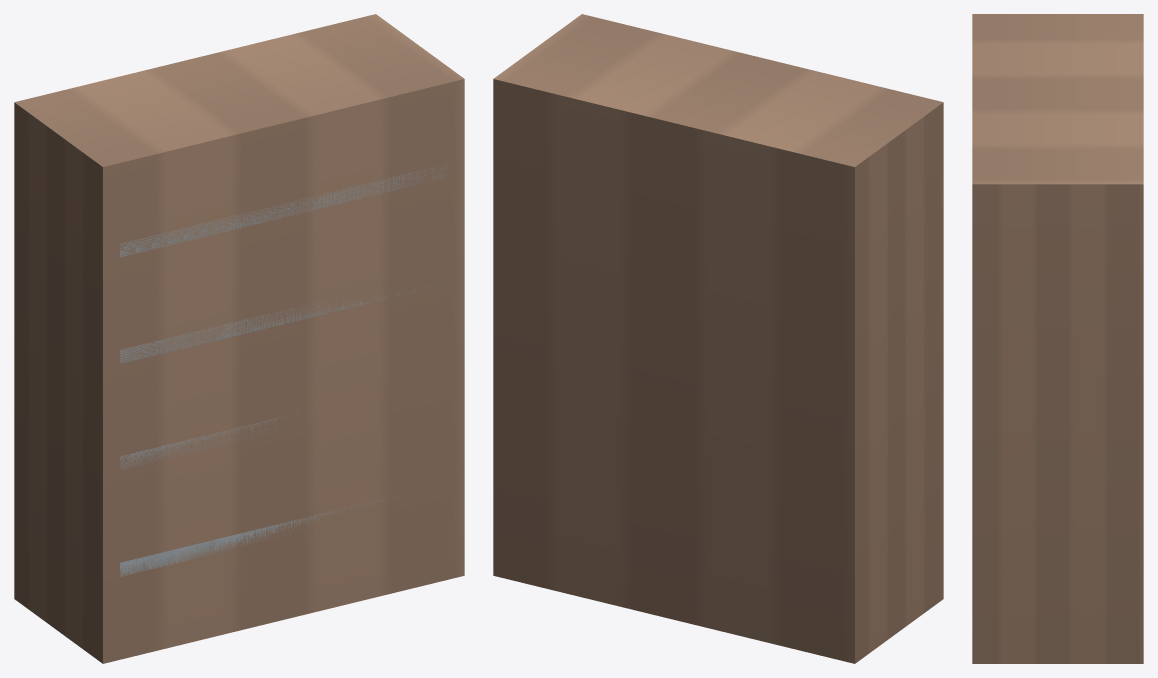
Rendered from shelf_shop.glb.
The picture shows the model from 3 angles, left to right: view 1: azimuth 30°, elevation 25°; view 2: azimuth 150°, elevation 25°; view 3: azimuth 270°, elevation 25°; orthographic projection. The views are drawn at different scales.
Visible parts, largest first — view 1: shelf_shop; view 2: shelf_shop; view 3: shelf_shop.
Part boxes in pixels (bbox=[...]): shelf_shop: bbox=[14, 14, 464, 663]; shelf_shop: bbox=[493, 14, 943, 663]; shelf_shop: bbox=[972, 14, 1143, 663].
Size of the model in its own units: 1.6 by 2.1 by 0.68.
1 material, 1 textured.
